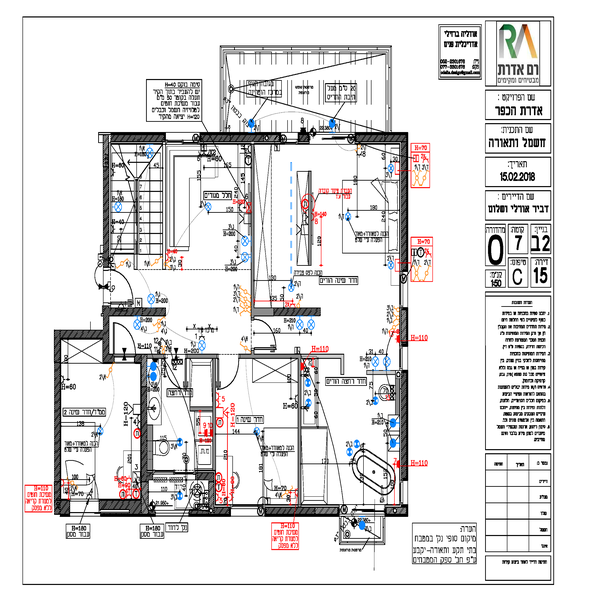door: (248, 315, 282, 355), (212, 354, 247, 390), (104, 269, 139, 304), (111, 322, 140, 359)
room: (248, 125, 407, 318), (106, 128, 261, 266), (50, 329, 149, 516), (298, 351, 408, 515), (212, 352, 304, 518), (137, 354, 215, 512)
wall: (139, 355, 152, 513), (53, 329, 63, 514), (398, 141, 412, 269), (101, 129, 112, 268), (397, 370, 409, 479), (263, 501, 342, 516), (201, 130, 283, 143), (100, 305, 167, 319), (96, 497, 146, 514), (253, 307, 322, 317), (355, 131, 408, 144), (111, 131, 167, 141), (398, 306, 410, 346), (57, 330, 106, 339)
window: (167, 128, 200, 149), (397, 273, 412, 304), (347, 504, 386, 515), (397, 340, 407, 367)
